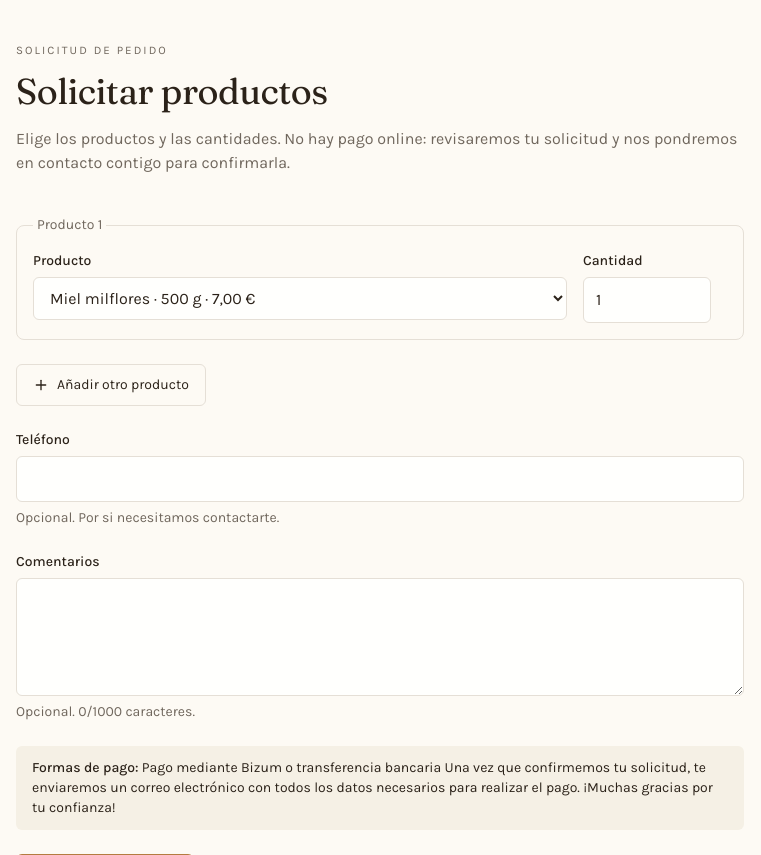
OrderRequestView › no envía la solicitud si la cantidad no es válida
Replace the text in the number field with id "order-line-0-quantity" with "0" at x=647, y=300, box [583,277,711,323]
(page scrolled)
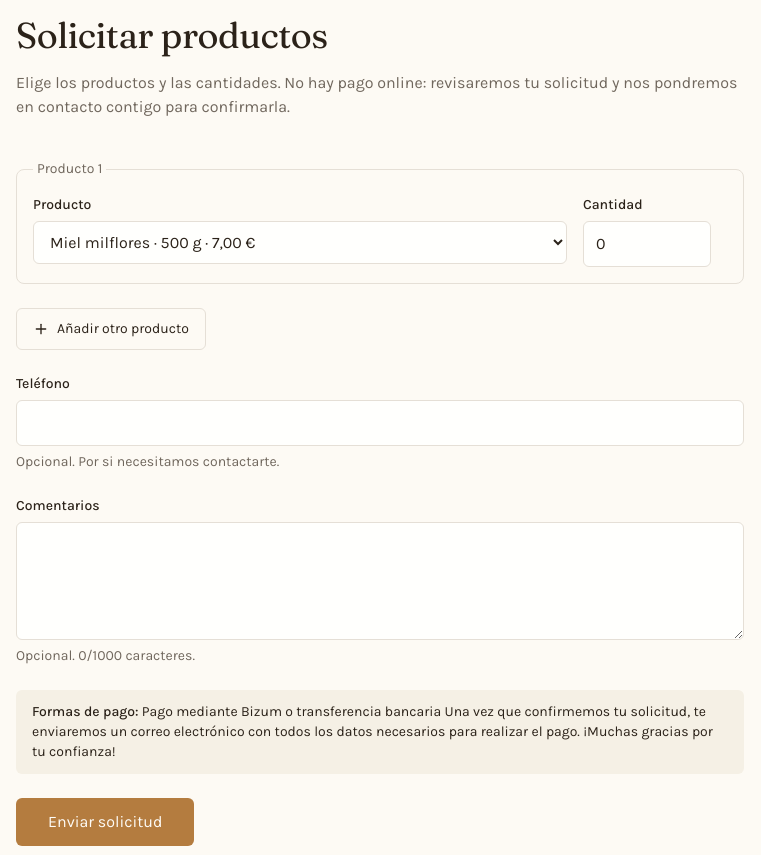
Submit the form
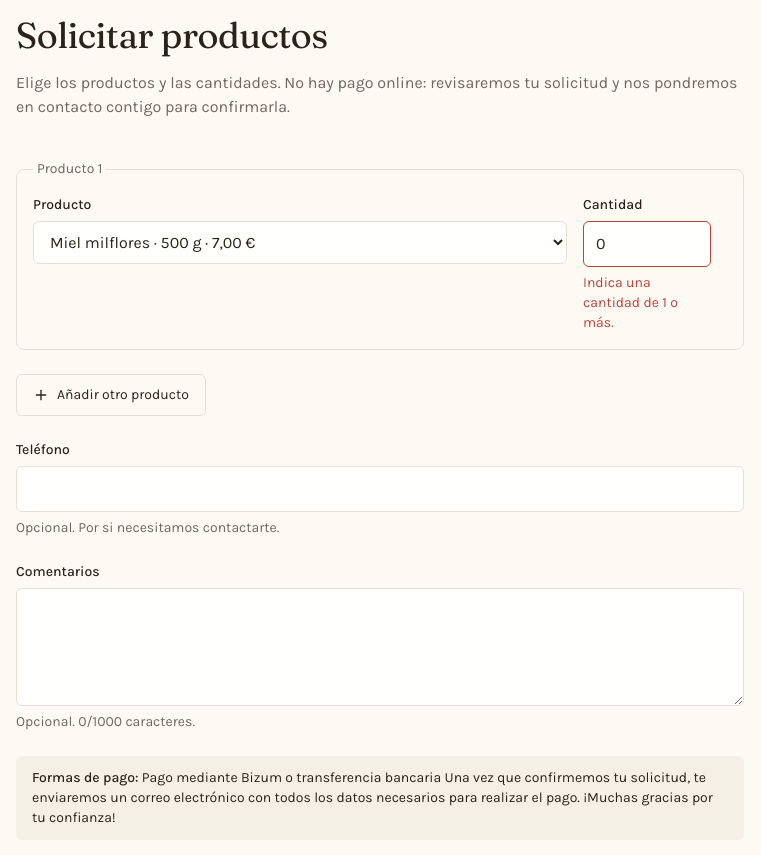
Check: the text "Indica una cantidad de 1 o más." is shown, box [583,274,678,331]
